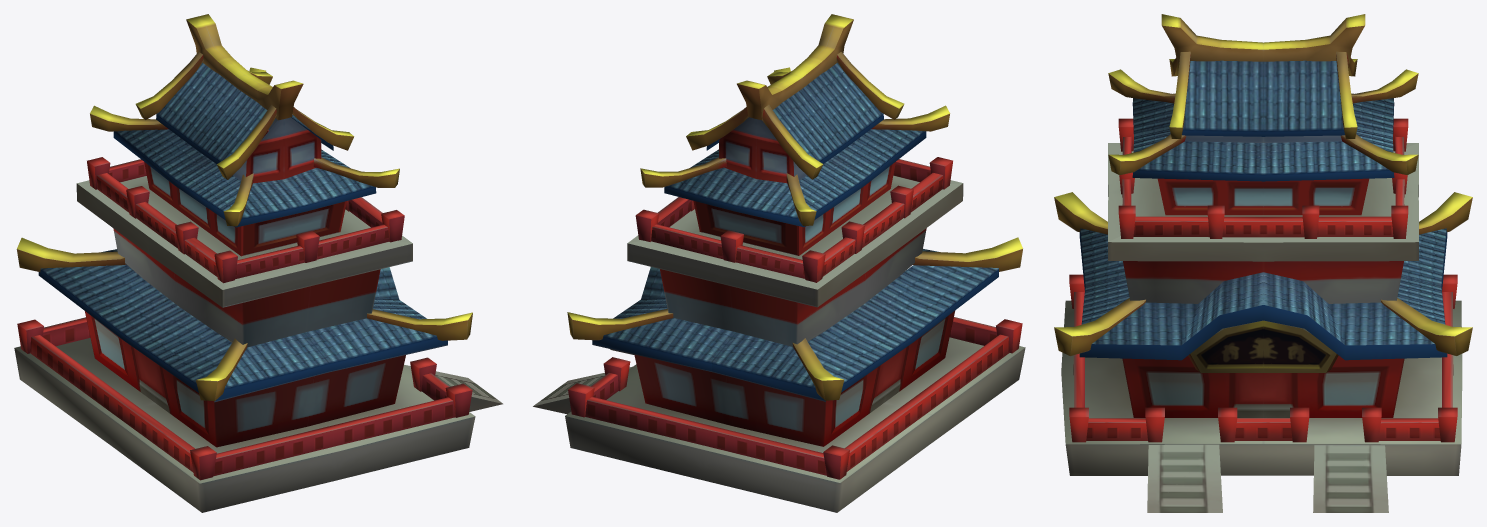
The model's file is BIGMAP_JD_13.FBX.
3 renders of one model, left to right at view 1: azimuth 30°, elevation 25°; view 2: azimuth 150°, elevation 25°; view 3: azimuth 270°, elevation 25°, orthographic. The views are drawn at different scales.
Parts seen in each view (by area): view 1: fuben_13; view 2: fuben_13; view 3: fuben_13.
Boxes of the visible parts, x1,y1,x2,y2 form: fuben_13: [14, 14, 502, 512]; fuben_13: [533, 14, 1025, 512]; fuben_13: [1054, 14, 1472, 512].
Bounding box in the file's own units: 54.79 × 55.29 × 54.28.
